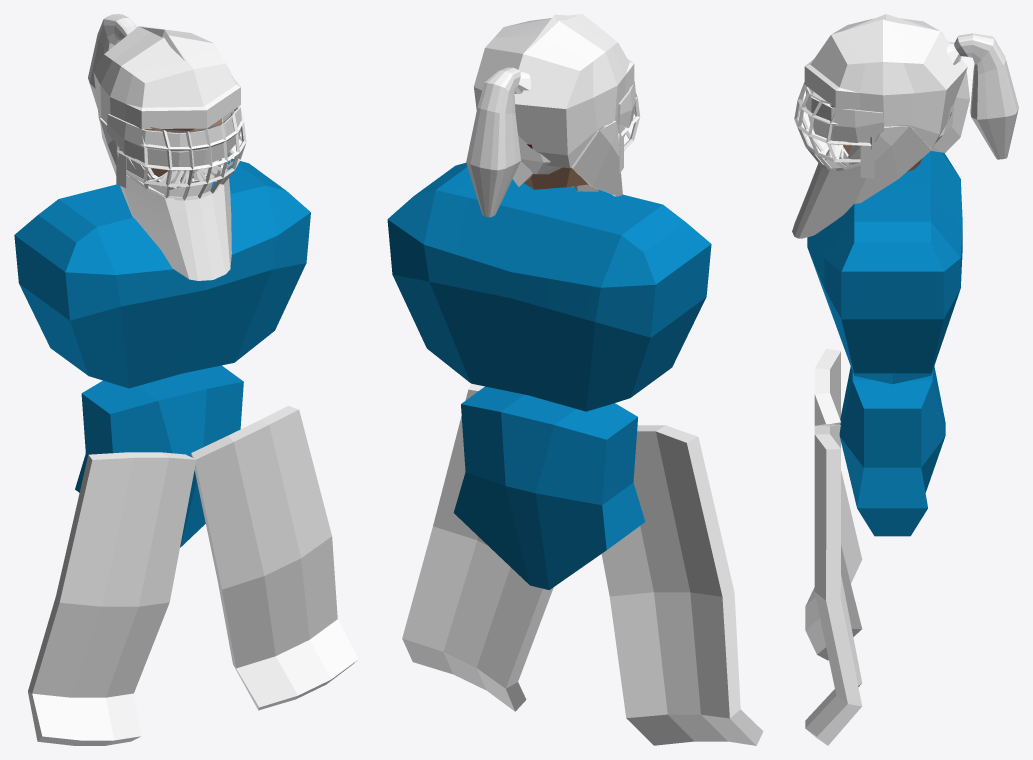
File: Player Body V2 (Attacker).glb
The picture shows the model from 3 angles, left to right: view 1: azimuth 30°, elevation 25°; view 2: azimuth 150°, elevation 25°; view 3: azimuth 270°, elevation 25°; orthographic projection. The views are drawn at different scales.
Parts seen in each view (by area): view 1: Leg Pad (Goalie) (×2), Torso, Groin, Helmet, Neck Shield, Visor, Cage, Hair Pony Tail, Beard Spade, Mustache HQM; view 2: Torso, Leg Pad (Goalie) (×2), Groin, Helmet, Hair Pony Tail, Neck Shield, Head; view 3: Torso, Leg Pad (Goalie) (×2), Groin, Helmet, Neck Shield, Hair Pony Tail, Visor, Cage, Hair Mohawk, Strap Left.
Boxes of the visible parts, x1=… form: Leg Pad (Goalie) (×2): x1=28, y1=406, x2=358, y2=745; Torso: x1=14, y1=158, x2=310, y2=388; Groin: x1=75, y1=365, x2=243, y2=547; Helmet: x1=93, y1=26, x2=240, y2=128; Neck Shield: x1=99, y1=118, x2=231, y2=280; Visor: x1=107, y1=106, x2=241, y2=166; Cage: x1=117, y1=107, x2=246, y2=200; Hair Pony Tail: x1=88, y1=14, x2=136, y2=108; Beard Spade: x1=126, y1=157, x2=218, y2=196; Mustache HQM: x1=148, y1=162, x2=227, y2=188; Torso: x1=387, y1=163, x2=711, y2=411; Leg Pad (Goalie) (×2): x1=402, y1=384, x2=763, y2=745; Groin: x1=453, y1=386, x2=645, y2=589; Helmet: x1=473, y1=14, x2=634, y2=168; Hair Pony Tail: x1=466, y1=67, x2=557, y2=217; Neck Shield: x1=571, y1=121, x2=622, y2=196; Head: x1=524, y1=167, x2=588, y2=189; Torso: x1=807, y1=151, x2=962, y2=384; Leg Pad (Goalie) (×2): x1=805, y1=348, x2=862, y2=745; Groin: x1=839, y1=366, x2=945, y2=536; Helmet: x1=804, y1=18, x2=967, y2=148; Neck Shield: x1=792, y1=125, x2=931, y2=238; Hair Pony Tail: x1=936, y1=33, x2=1018, y2=159; Visor: x1=805, y1=87, x2=884, y2=142; Cage: x1=794, y1=82, x2=871, y2=170; Hair Mohawk: x1=845, y1=14, x2=969, y2=152; Strap Left: x1=860, y1=136, x2=874, y2=178.
Size of what is drawn, in the model's own units: 1.07 by 2.19 by 0.6655.
10 materials, 4 textured.
